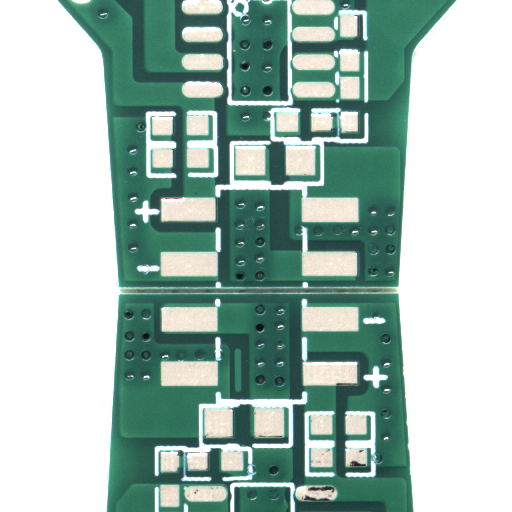Spurious_copper: (238, 369, 251, 415)
